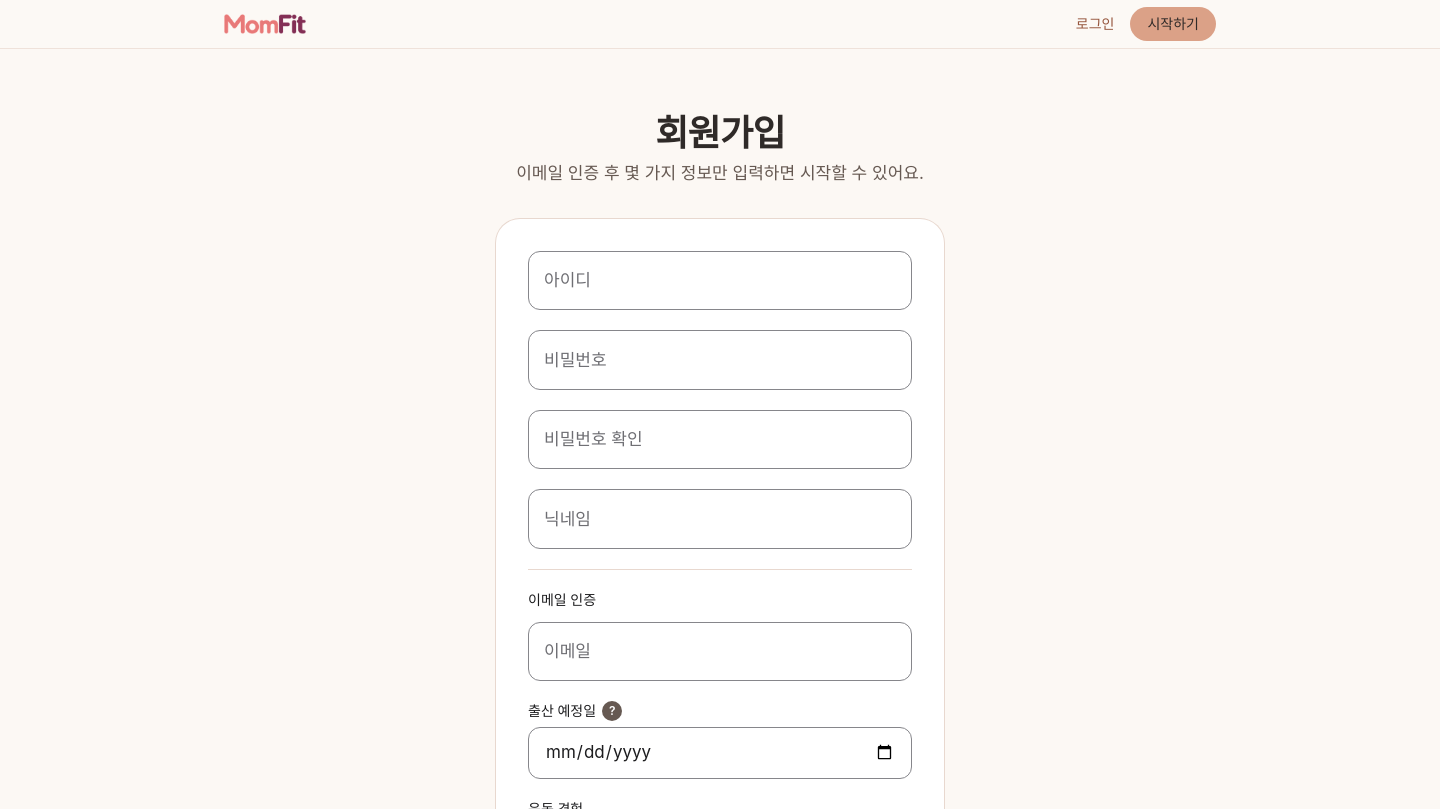
Test case: 이메일 인증 입력 › 코드가 틀리면 다시 입력할 수 있다
Type "mom@example.com" into the field labelled "이메일". click: (720, 651)
box: [528, 622, 912, 681]
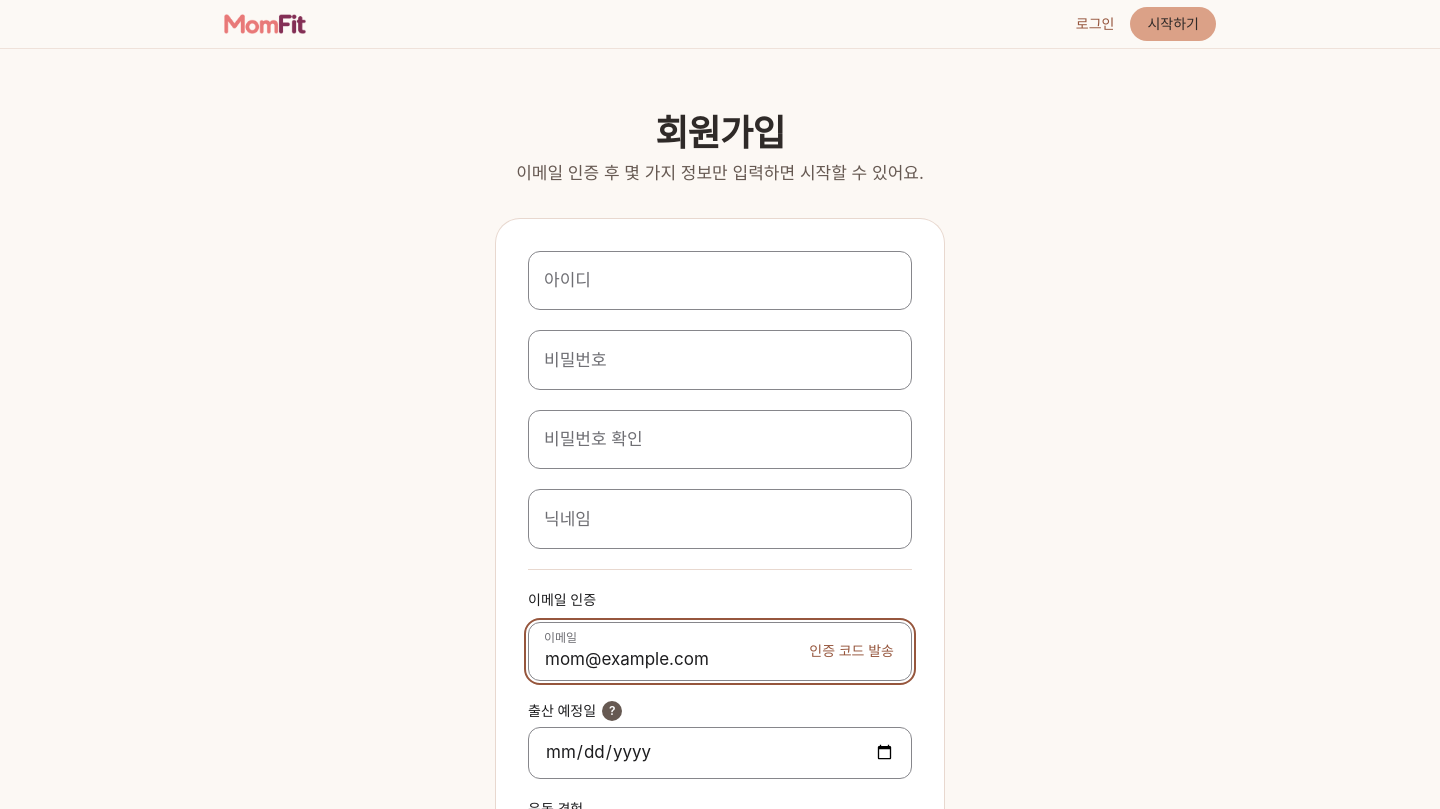
Click the button "인증 코드 발송". click: (852, 651)
box: [803, 637, 900, 665]
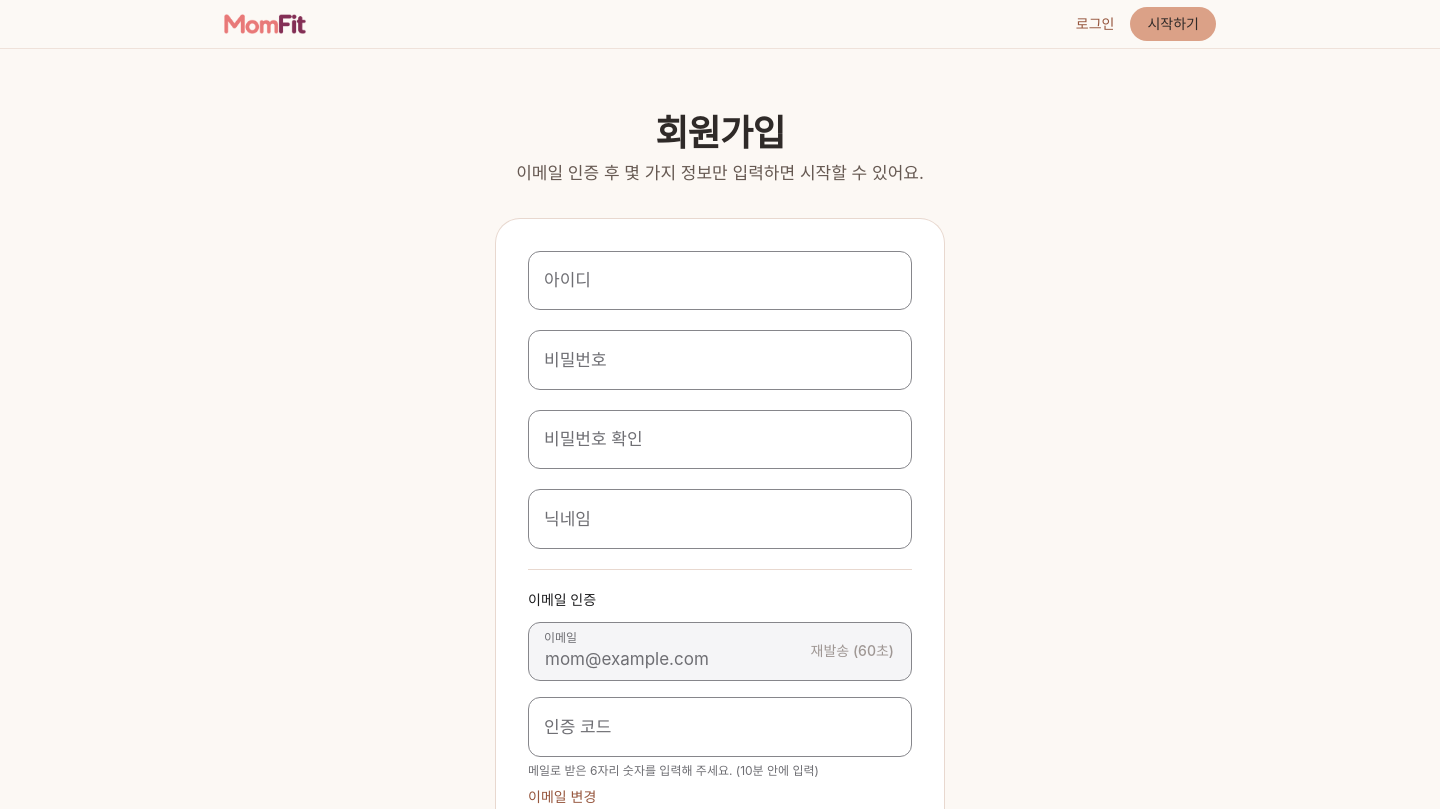
Type "000000" into the field labelled "인증 코드". click: (720, 727)
box: [528, 697, 912, 756]
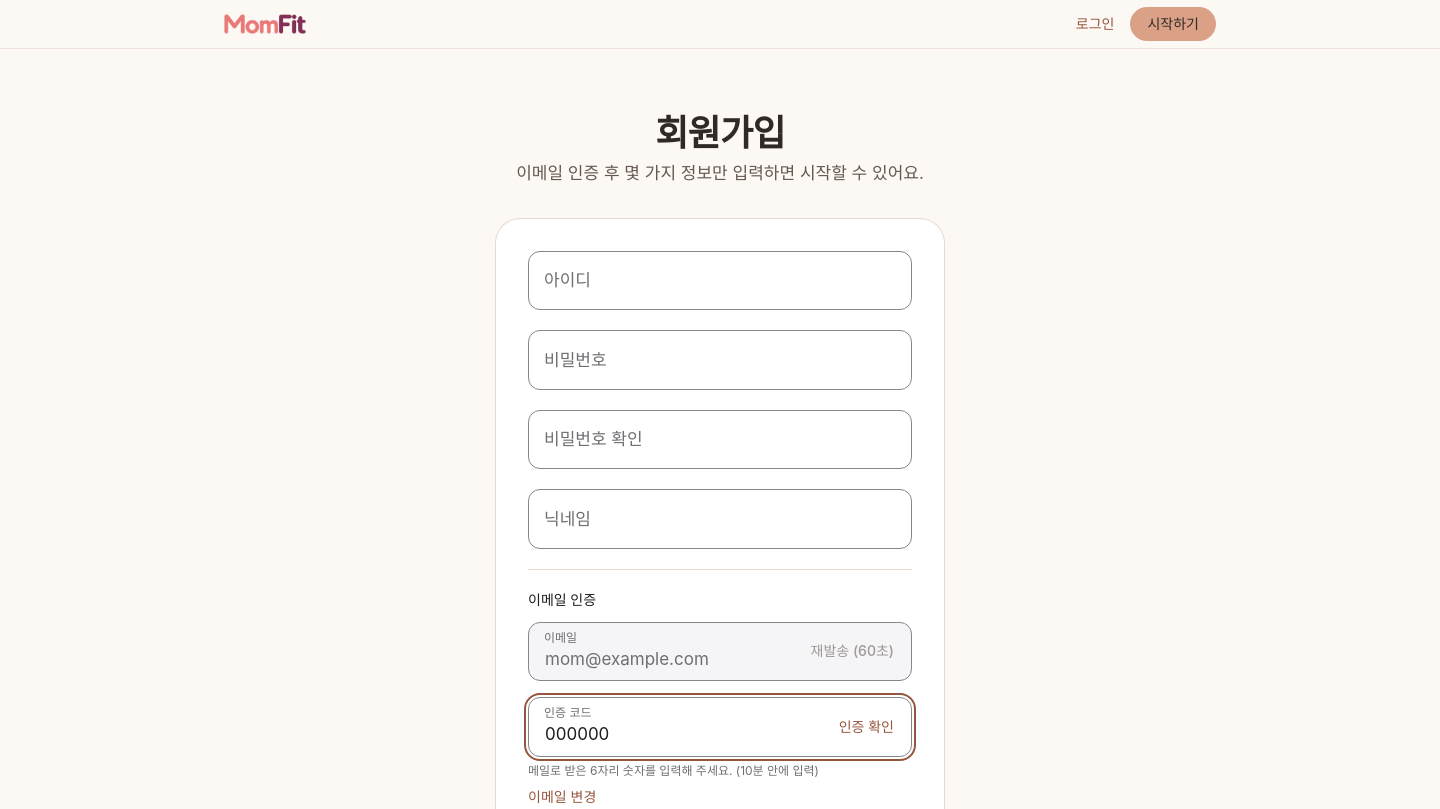
Click the button "인증 확인". click: (866, 727)
box: [833, 713, 900, 741]
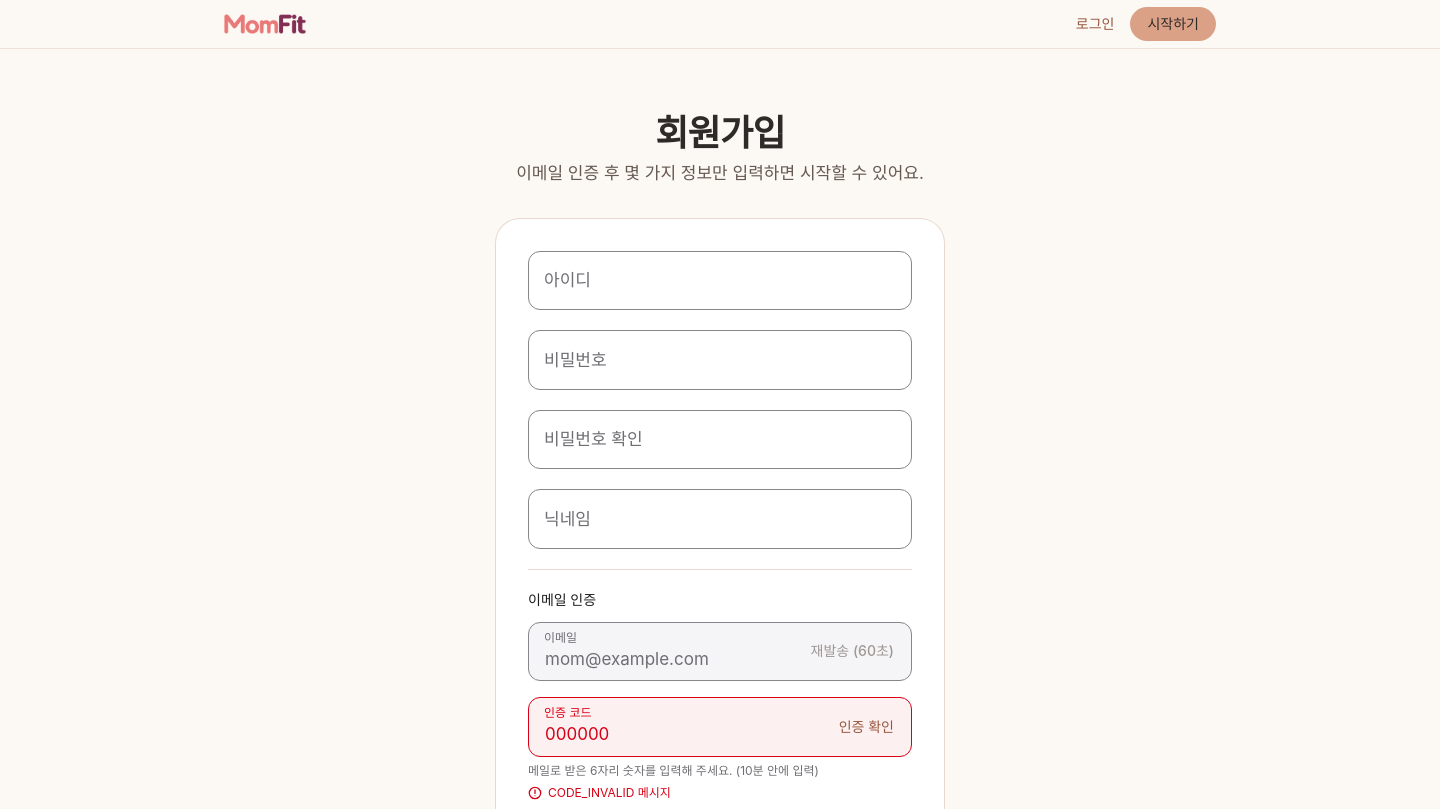
Expected: the field labelled "인증 코드" is enabled, [528, 697, 912, 756]
Expected: the text "CODE_INVALID 메시지" is shown, [548, 784, 671, 800]
